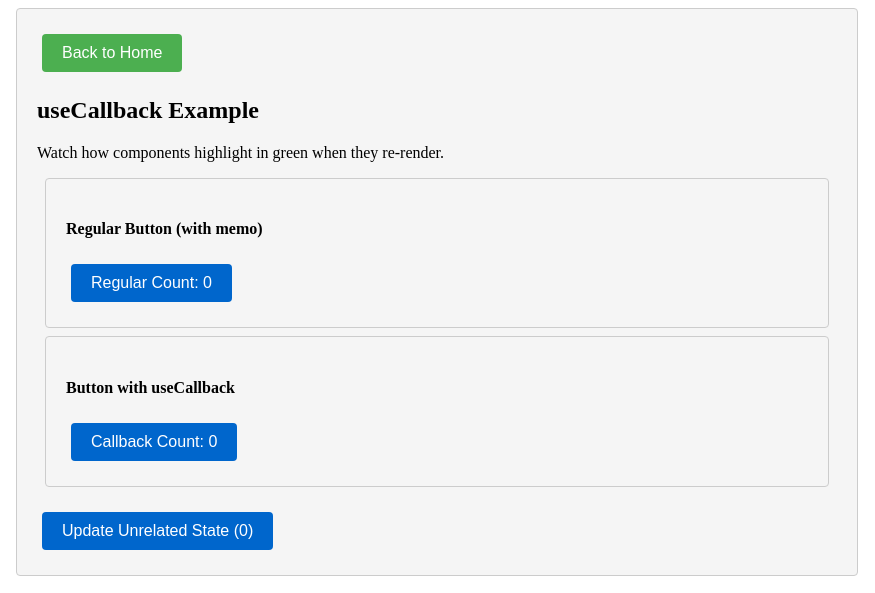
Scenario: CallbackExample › increments count B when CallbackButton is clicked
Click the button "Callback Count: 0": [154, 442] box top-left (71, 423), bottom-right (237, 461)
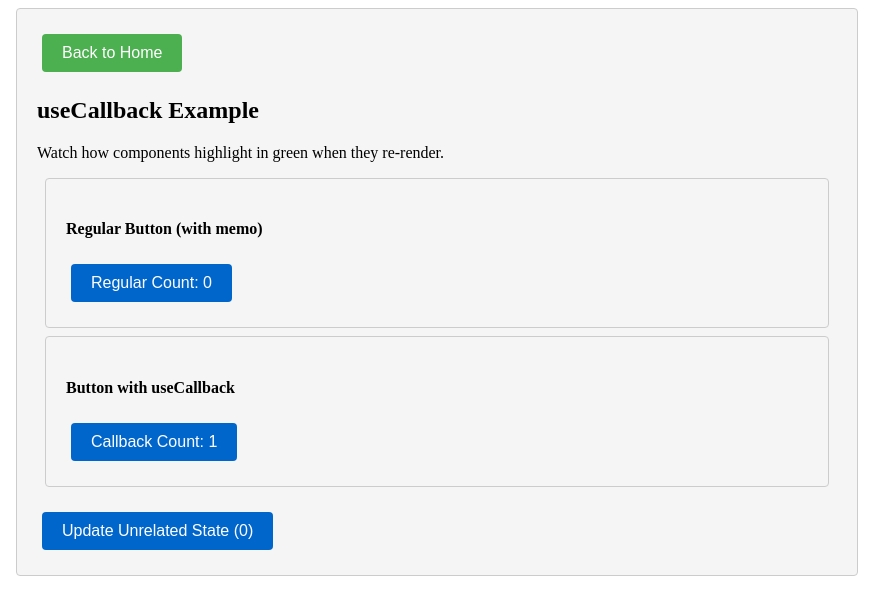
Expected: the button "Callback Count: 1" is shown, top-left (71, 423), bottom-right (237, 461)
